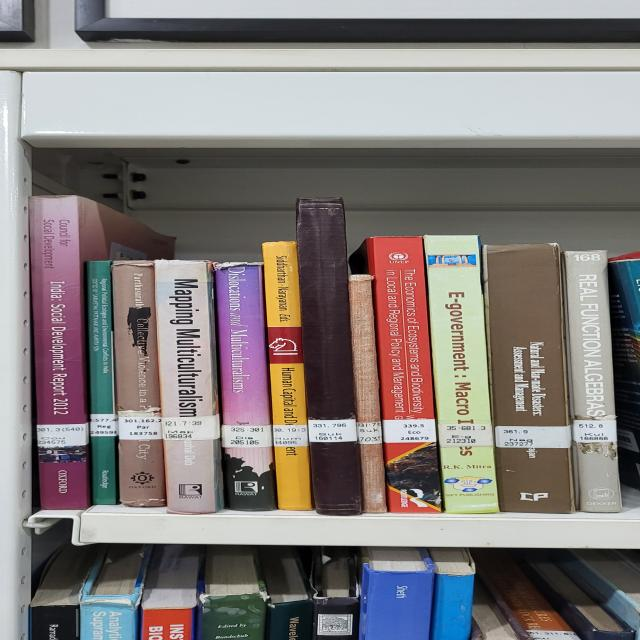Book: (30, 195, 173, 510), (352, 236, 444, 514), (482, 244, 574, 514), (295, 198, 363, 516), (422, 235, 498, 514), (154, 260, 222, 514), (563, 250, 622, 512), (214, 262, 276, 511), (111, 260, 168, 506), (262, 241, 311, 510), (349, 275, 387, 514), (87, 260, 119, 505)
Label: (495, 426, 571, 449), (116, 408, 162, 440), (162, 415, 219, 440), (381, 419, 436, 444), (35, 424, 89, 448), (438, 424, 492, 448), (222, 425, 273, 448), (308, 419, 357, 442), (574, 420, 617, 442), (273, 425, 308, 446), (89, 414, 119, 436), (357, 421, 381, 444)
